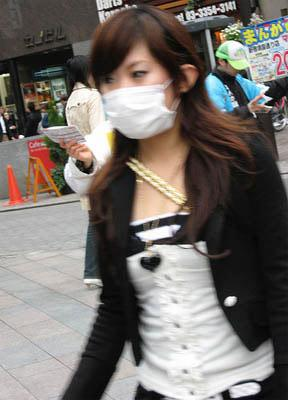OK: (99, 57, 179, 137)
